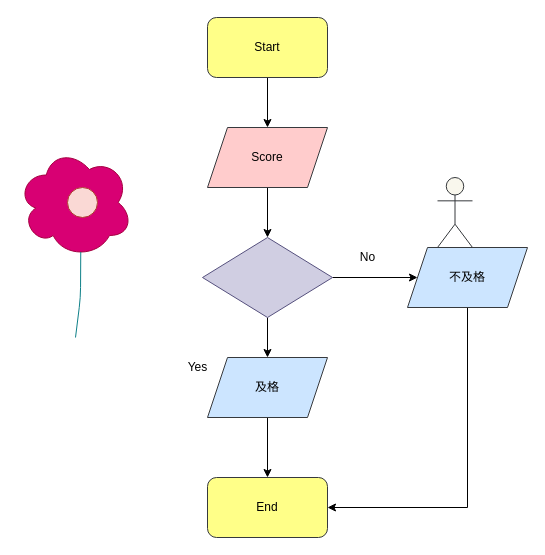
This 545x555 diagram has some shape labels left out. Here are the shapes that lost their labels. From the top down, the centre of each, then its label:
At [454,212]: "Actor".
At [267,277]: "Score>=60".
